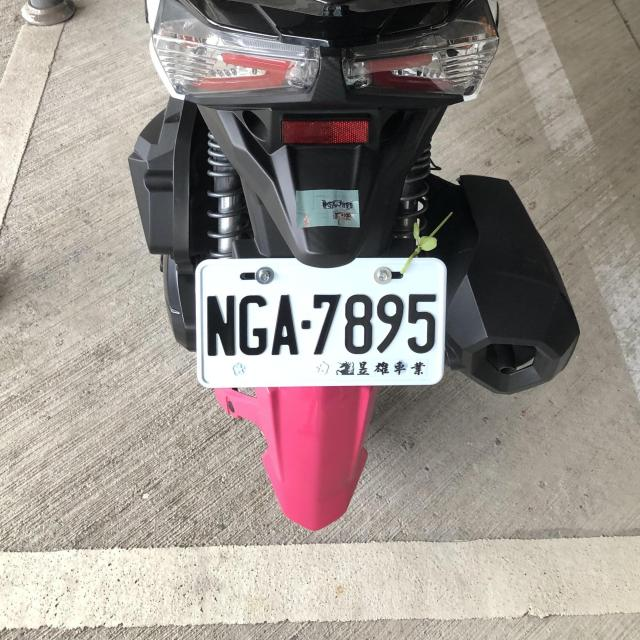W: (191, 252, 449, 392)
